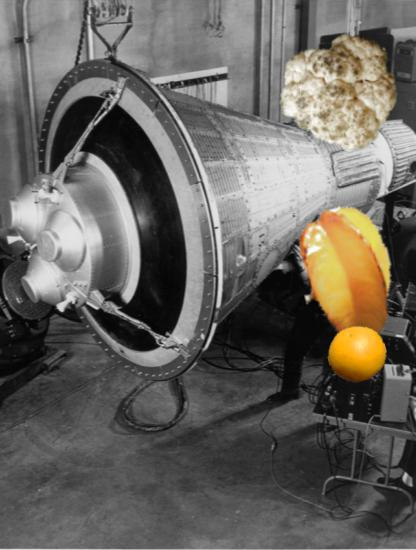Carambula: (277, 206, 413, 342)
Cauliflower: (279, 30, 399, 150)
Grapefruit: (328, 325, 387, 384)
